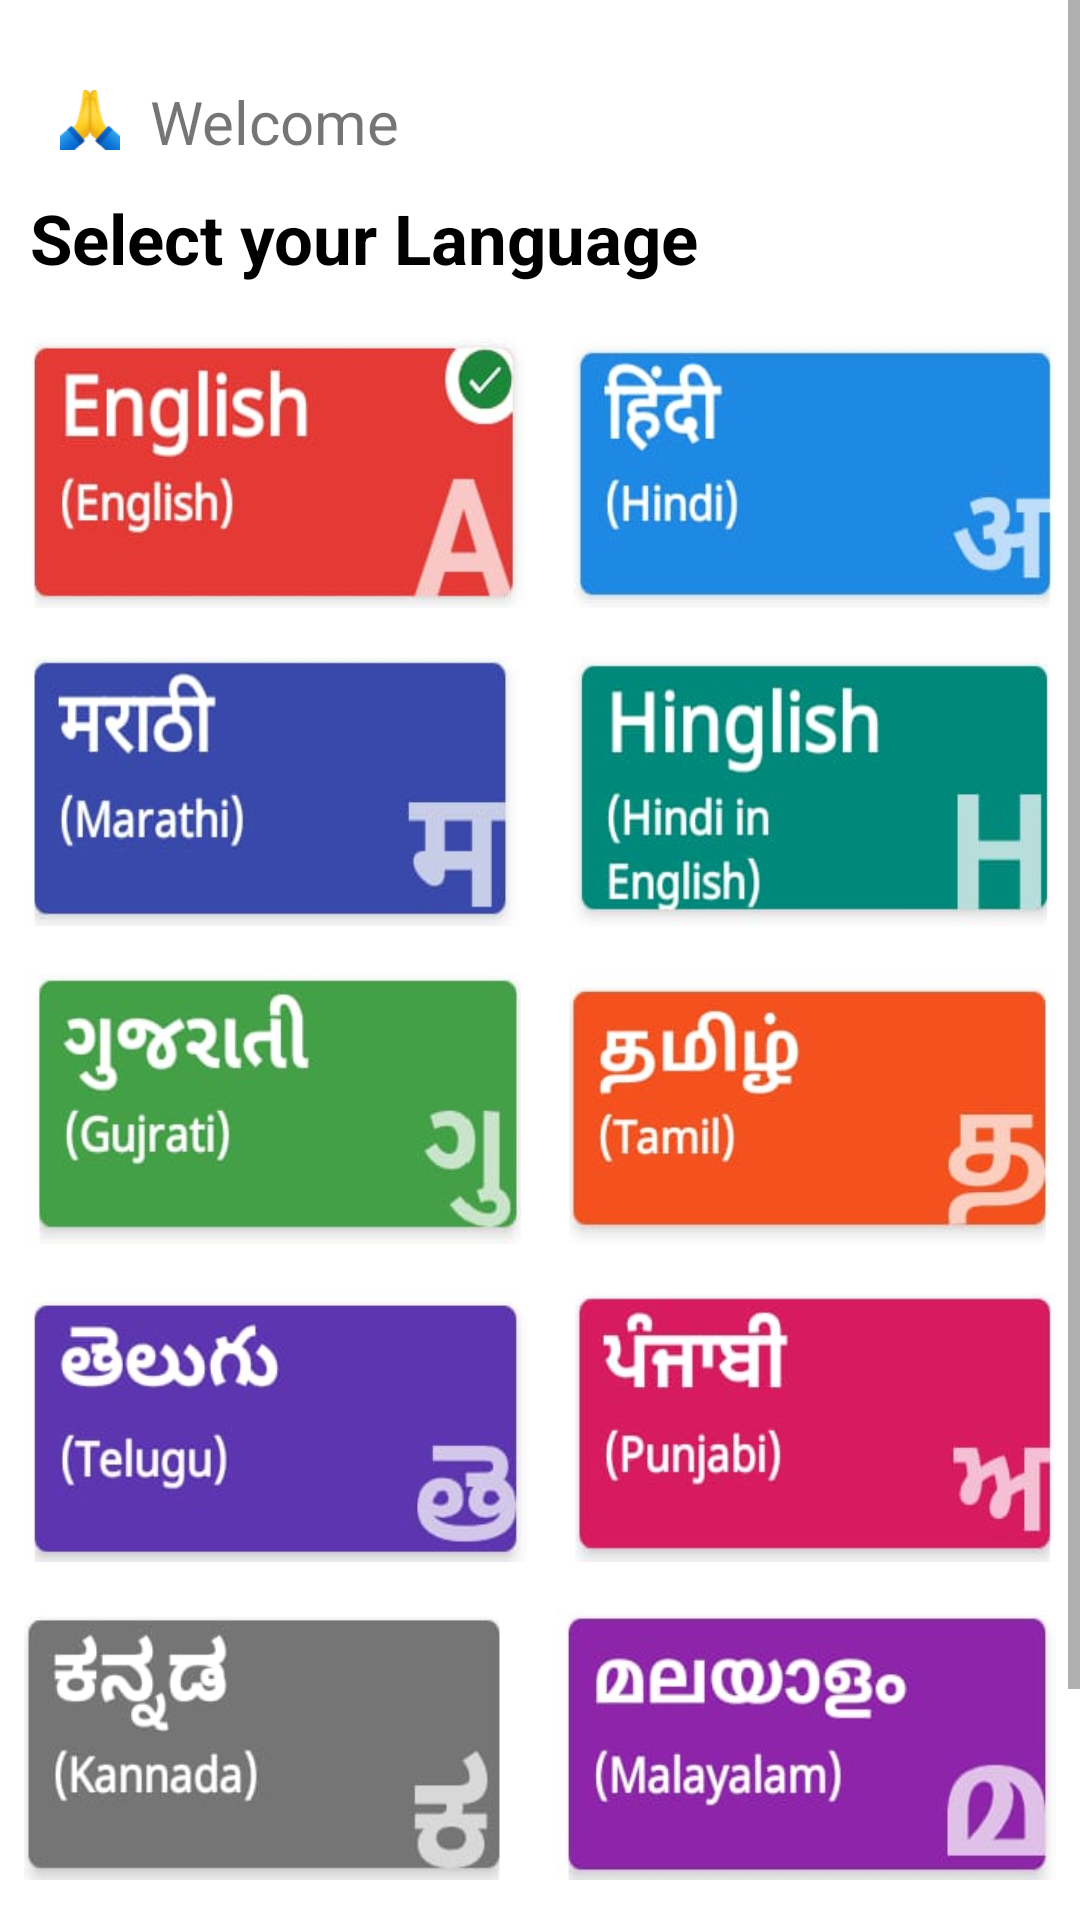

Locate icon controls on the screen. Image size 1080px×1920px, boxes as (x1, y1, x2, y2).
handgesture: (60, 90, 120, 150)
